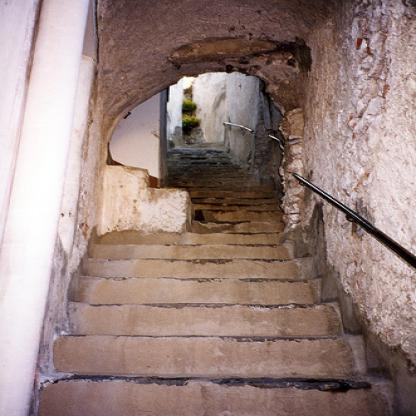stairs: (78, 277, 313, 416)
